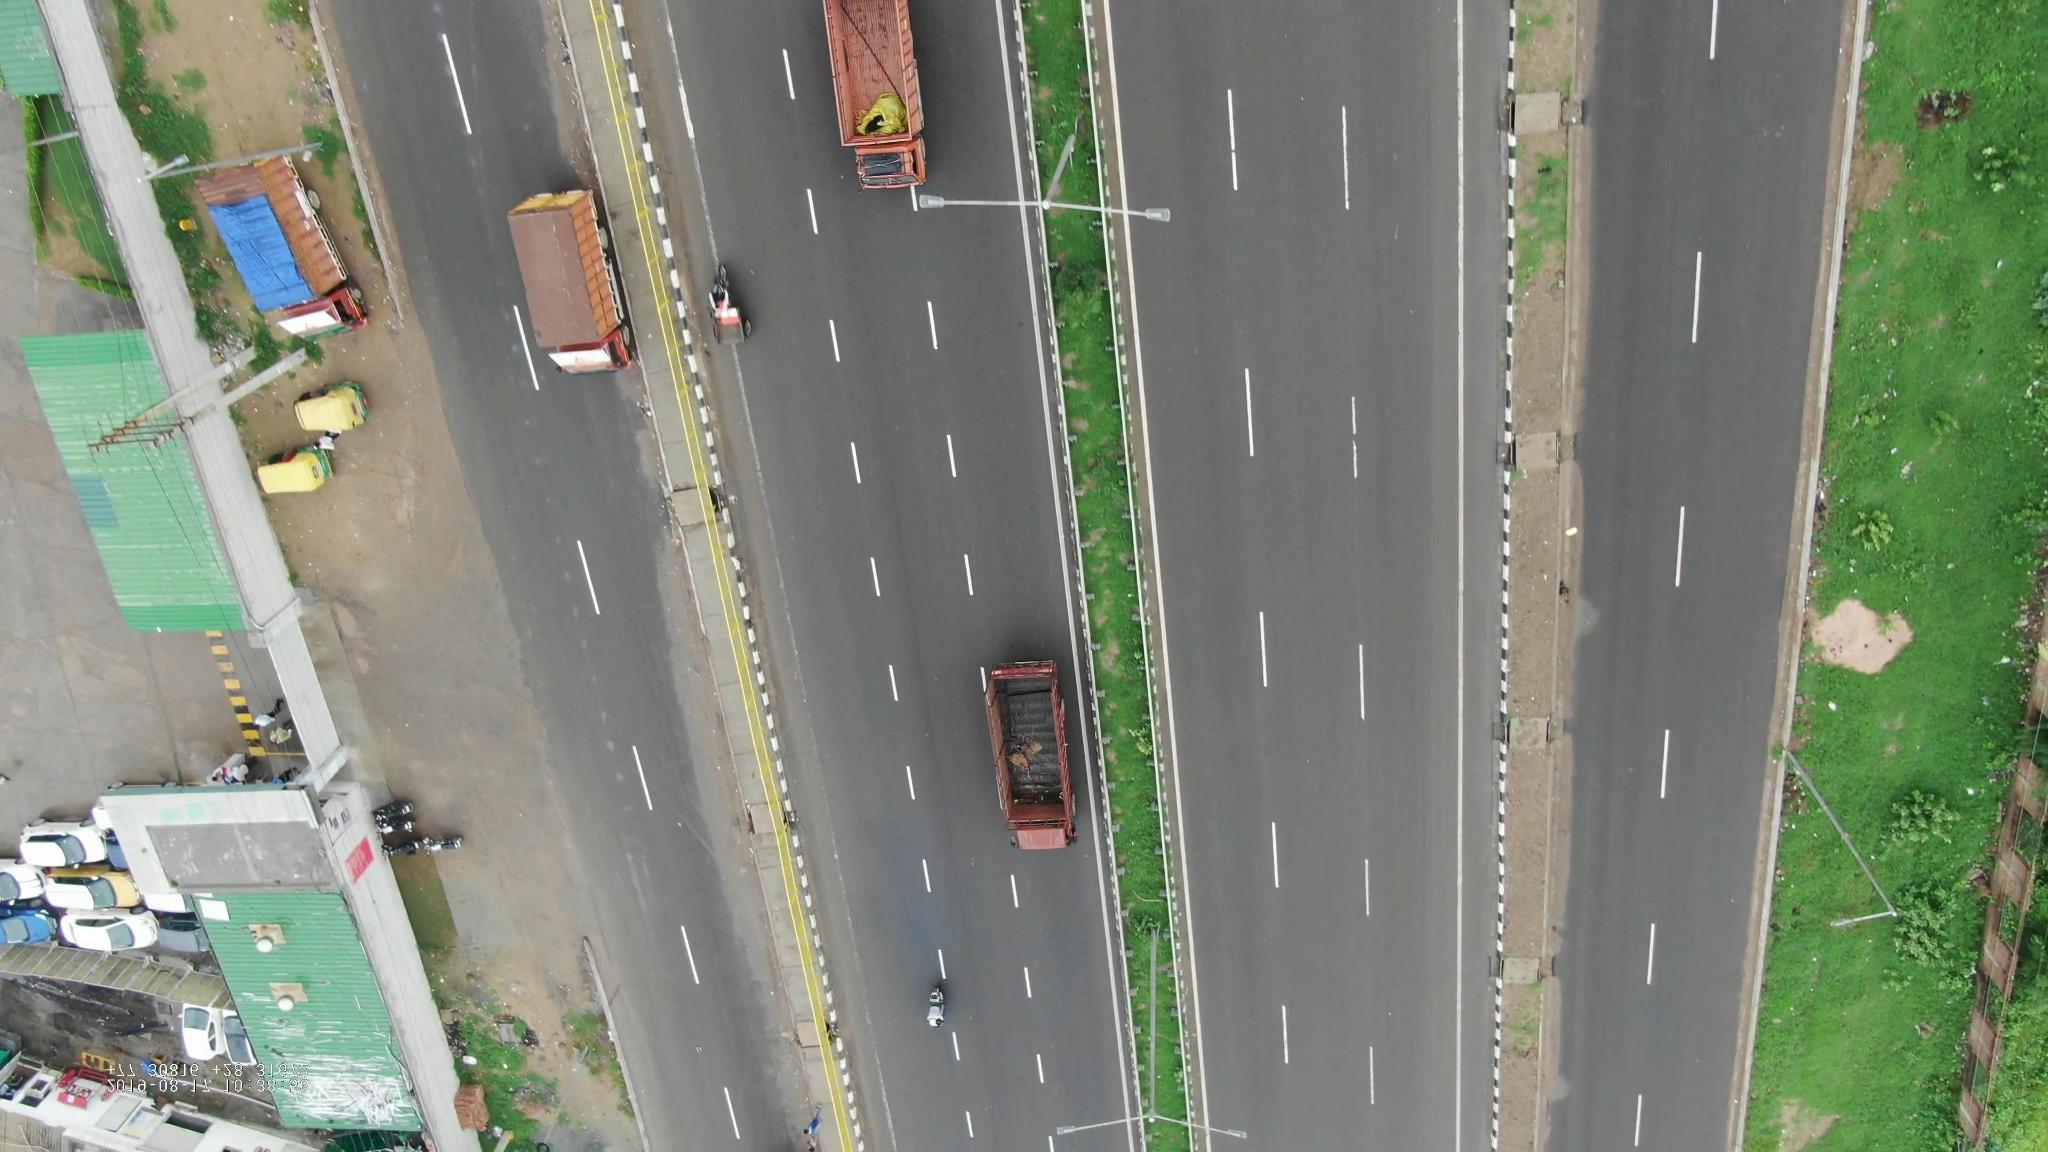Potholes: (492, 316, 549, 459), (527, 499, 592, 622), (572, 650, 625, 802), (422, 20, 482, 148), (608, 854, 677, 933)
